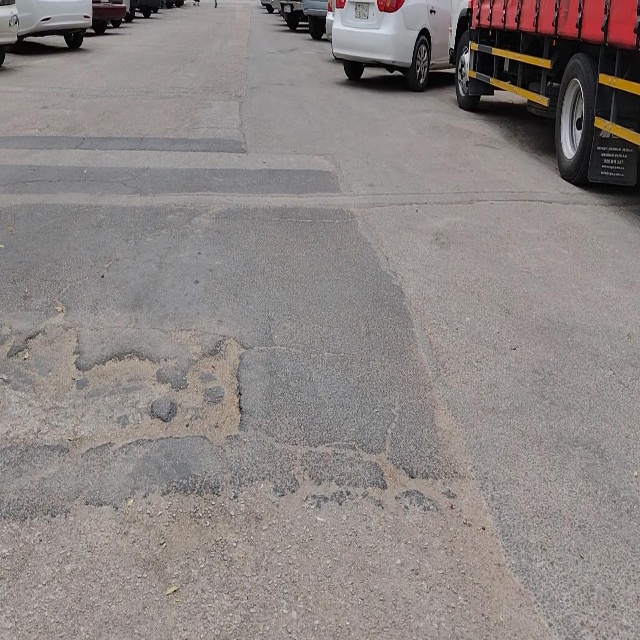pothole: (152, 332, 251, 451), (64, 344, 155, 457)
